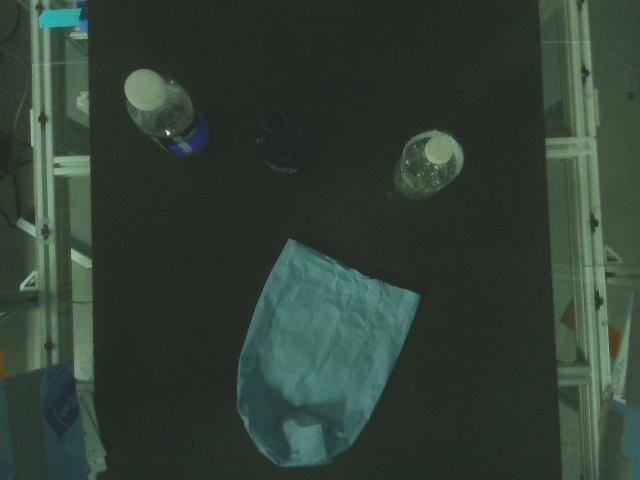glass: (254, 109, 311, 178)
paper: (234, 237, 422, 468)
plastic: (120, 66, 210, 161), (392, 128, 464, 204)
